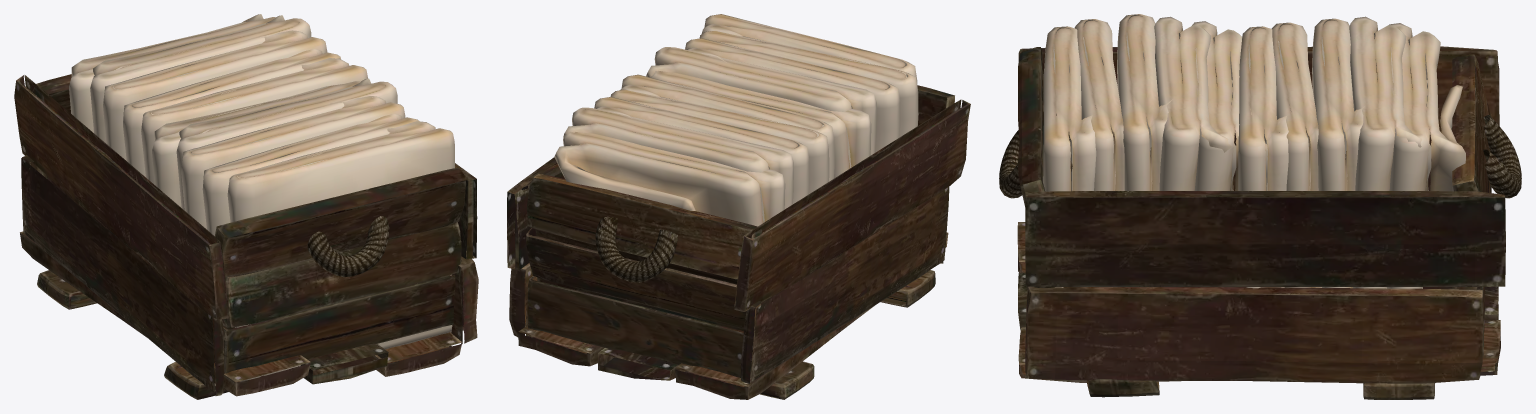
3 renders of one model, left to right at view 1: azimuth 30°, elevation 25°; view 2: azimuth 150°, elevation 25°; view 3: azimuth 270°, elevation 25°, orthographic. The views are drawn at different scales.
Parts seen in each view (by area): view 1: SM_Dec_Garou_Chest_Cloth_Wool_Small_LOD0; view 2: SM_Dec_Garou_Chest_Cloth_Wool_Small_LOD0; view 3: SM_Dec_Garou_Chest_Cloth_Wool_Small_LOD0.
Boxes of the visible parts, left/top/right/bottom form: SM_Dec_Garou_Chest_Cloth_Wool_Small_LOD0: left=14, top=14, right=478, bottom=399; SM_Dec_Garou_Chest_Cloth_Wool_Small_LOD0: left=507, top=14, right=970, bottom=399; SM_Dec_Garou_Chest_Cloth_Wool_Small_LOD0: left=999, top=14, right=1521, bottom=399.
Bounding box in the file's own units: 0.6922 × 0.5388 × 0.9929.
2 materials, 2 textured.
